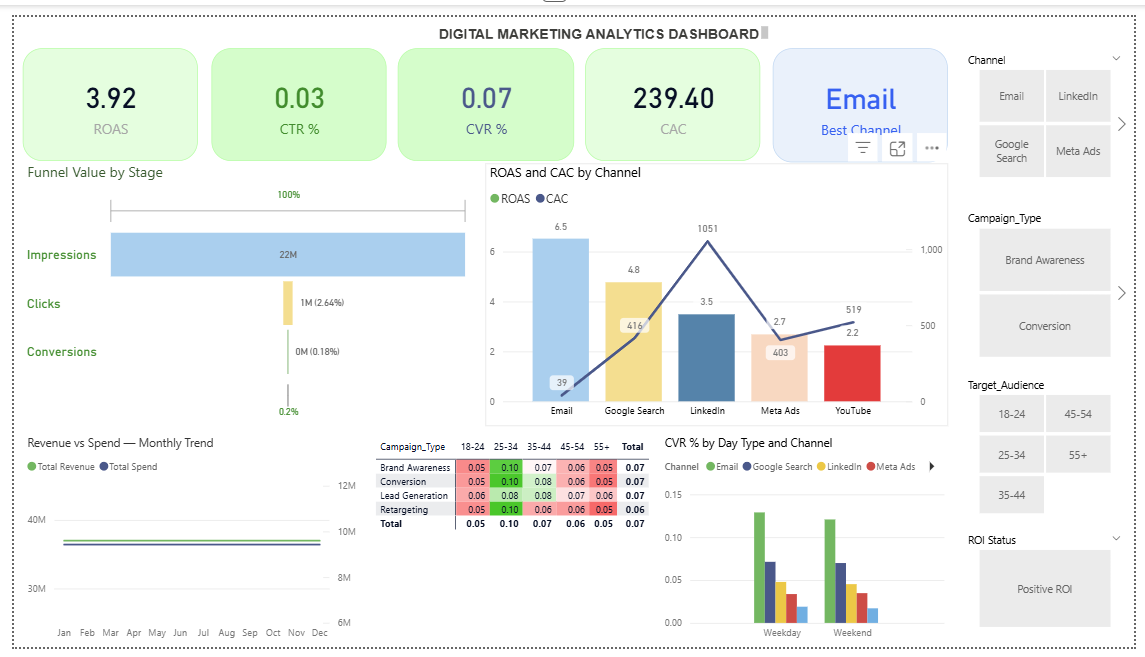

Layout of this report page (visuals, bound fields, positions):
{"tool":"powerbi","page":{"name":"Page 1","canvas":[1280,720],"ordinal":0},"visuals":[{"type":"card","fields":{"Values":["_Measures.ROAS"]},"box":[10,35.7,200,128.6],"z":0},{"type":"card","fields":{"Values":["_Measures.CTR %"]},"box":[225.7,35.7,200,128.6],"z":1000},{"type":"card","fields":{"Values":["_Measures.CVR %"]},"box":[438.6,35.7,201.4,128.6],"z":2000},{"type":"card","fields":{"Values":["_Measures.CAC"]},"box":[652.9,35.7,200,128.6],"z":3000},{"type":"card","fields":{"Values":["_Measures.Best Channel"]},"box":[867.1,35.7,200,130],"z":4000},{"type":"funnel","fields":{"Category":["Funnel_Stages.Stage"],"Y":["Funnel_Stages.Funnel Value"]},"box":[10,165.7,515.7,301.4],"z":5000},{"type":"lineClusteredColumnComboChart","fields":{"Category":["Campaigns.Channel"],"Y":["_Measures.ROAS"],"Y2":["_Measures.CAC"]},"box":[538.6,167.1,528.6,300],"z":6000},{"type":"lineChart","title":"Revenue vs Spend — Monthly Trend ","fields":{"Category":["Calendar.Month Name"],"Y":["_Measures.Total Revenue"],"Y2":["_Measures.Total Spend"]},"box":[10,477.1,387.1,242.9],"z":7000},{"type":"pivotTable","fields":{"Rows":["Campaigns.Campaign_Type"],"Columns":["Campaigns.Target_Audience"],"Values":["_Measures.CVR %"]},"box":[408.6,477.1,328.6,242.9],"z":8000},{"type":"clusteredColumnChart","fields":{"Y":["_Measures.CVR %"],"Category":["Campaigns.Day Type"],"Series":["Campaigns.Channel"]},"box":[738,477,330,243],"z":9000},{"type":"slicer","fields":{"Values":["Campaigns.Channel"]},"box":[1077.1,35.7,200,154.3],"z":10000},{"type":"slicer","fields":{"Values":["Campaigns.Campaign_Type"]},"box":[1077.1,217.1,200,178.6],"z":11000},{"type":"slicer","fields":{"Values":["Campaigns.Target_Audience"]},"box":[1077.1,407.1,200,167.1],"z":12000},{"type":"slicer","fields":{"Values":["Campaigns.ROI Status"]},"box":[1077.1,584.3,200,120],"z":13000},{"type":"textbox","box":[477.1,5.7,390,24.3],"z":14000}]}

Visuals, with their boxes on the page's 1280x720 design canvas (x1, y1, x2, y2). These are canvas units, not pixel positions in the 1145x657 screenshot, which may show the page scaled, cropped or inside an application window:
card - _Measures.ROAS: rect(10, 36, 210, 164)
card - _Measures.CTR %: rect(226, 36, 426, 164)
card - _Measures.CVR %: rect(439, 36, 640, 164)
card - _Measures.CAC: rect(653, 36, 853, 164)
card - _Measures.Best Channel: rect(867, 36, 1067, 166)
funnel - Funnel_Stages.Stage x Funnel_Stages.Funnel Value: rect(10, 166, 526, 467)
lineClusteredColumnComboChart - Campaigns.Channel x _Measures.ROAS: rect(539, 167, 1067, 467)
"Revenue vs Spend — Monthly Trend " lineChart: rect(10, 477, 397, 720)
pivotTable - Campaigns.Campaign_Type x Campaigns.Target_Audience: rect(409, 477, 737, 720)
clusteredColumnChart - _Measures.CVR % x Campaigns.Day Type: rect(738, 477, 1068, 720)
slicer - Campaigns.Channel: rect(1077, 36, 1277, 190)
slicer - Campaigns.Campaign_Type: rect(1077, 217, 1277, 396)
slicer - Campaigns.Target_Audience: rect(1077, 407, 1277, 574)
slicer - Campaigns.ROI Status: rect(1077, 584, 1277, 704)
textbox: rect(477, 6, 867, 30)
